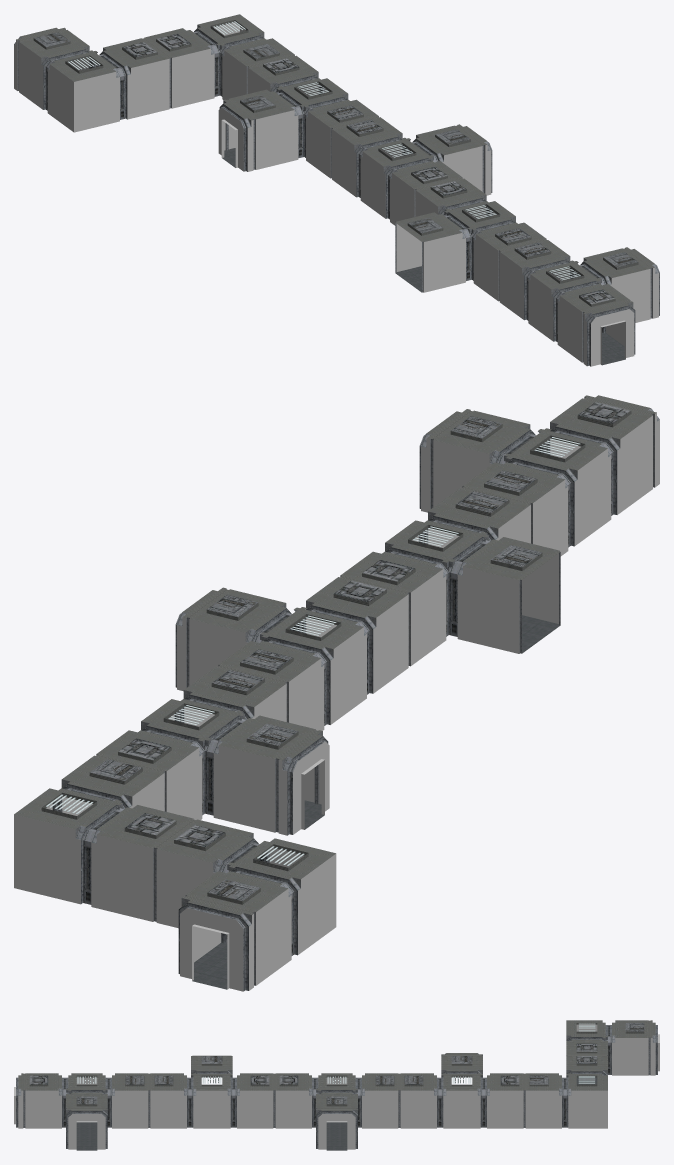
The model's file is poi_all_impl_bunker_research_facility_s01_r10_hall_mesh.fbx.
3 renders of one model, top to bottom at view 1: azimuth 30°, elevation 25°; view 2: azimuth 150°, elevation 25°; view 3: azimuth 270°, elevation 25°, orthographic. The views are drawn at different scales.
Visible parts, largest first — view 1: mesh_node; view 2: mesh_node; view 3: mesh_node.
Boxes of the visible parts, left/top/right/bottom form: mesh_node: left=14, top=14, right=659, bottom=366; mesh_node: left=14, top=395, right=659, bottom=991; mesh_node: left=14, top=1020, right=659, bottom=1150.
Bounding box in the file's own units: 21 × 4.2 × 62.
